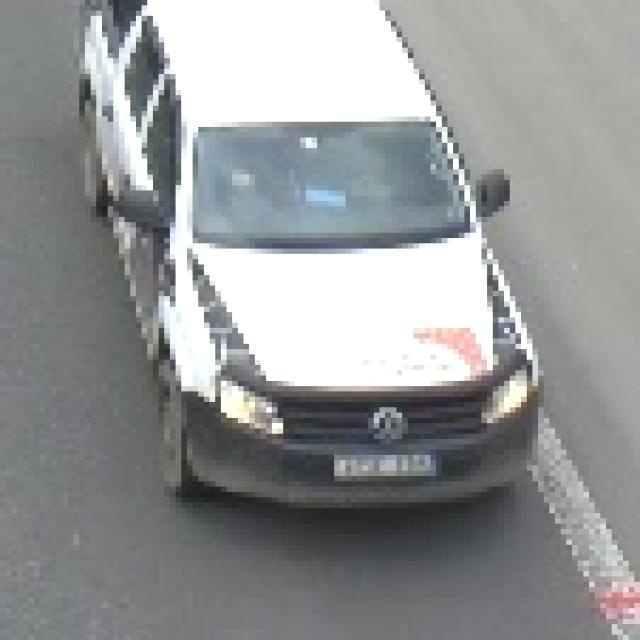CMT: (85, 0, 521, 492)
